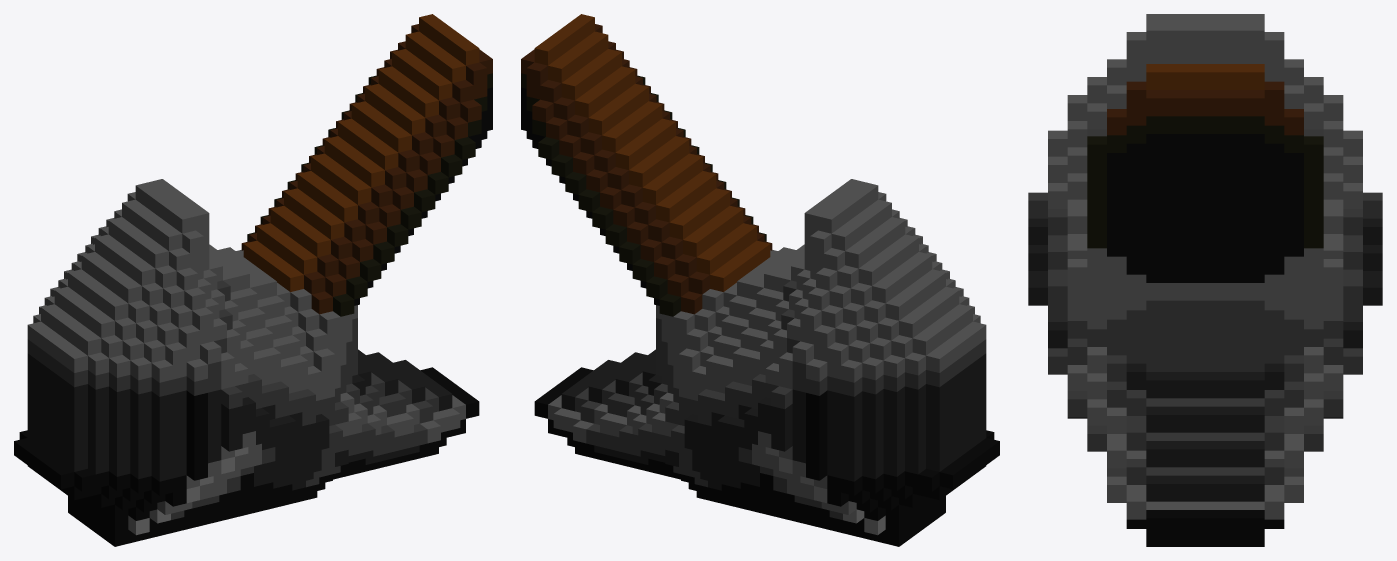
File: bonecrush.glb
3 views of the same model, side by side, from view 1: azimuth 30°, elevation 25°; view 2: azimuth 150°, elevation 25°; view 3: azimuth 270°, elevation 25° (orthographic). The views are drawn at different scales.
Size of the model in its own units: 1 by 0.9062 by 0.5625.
